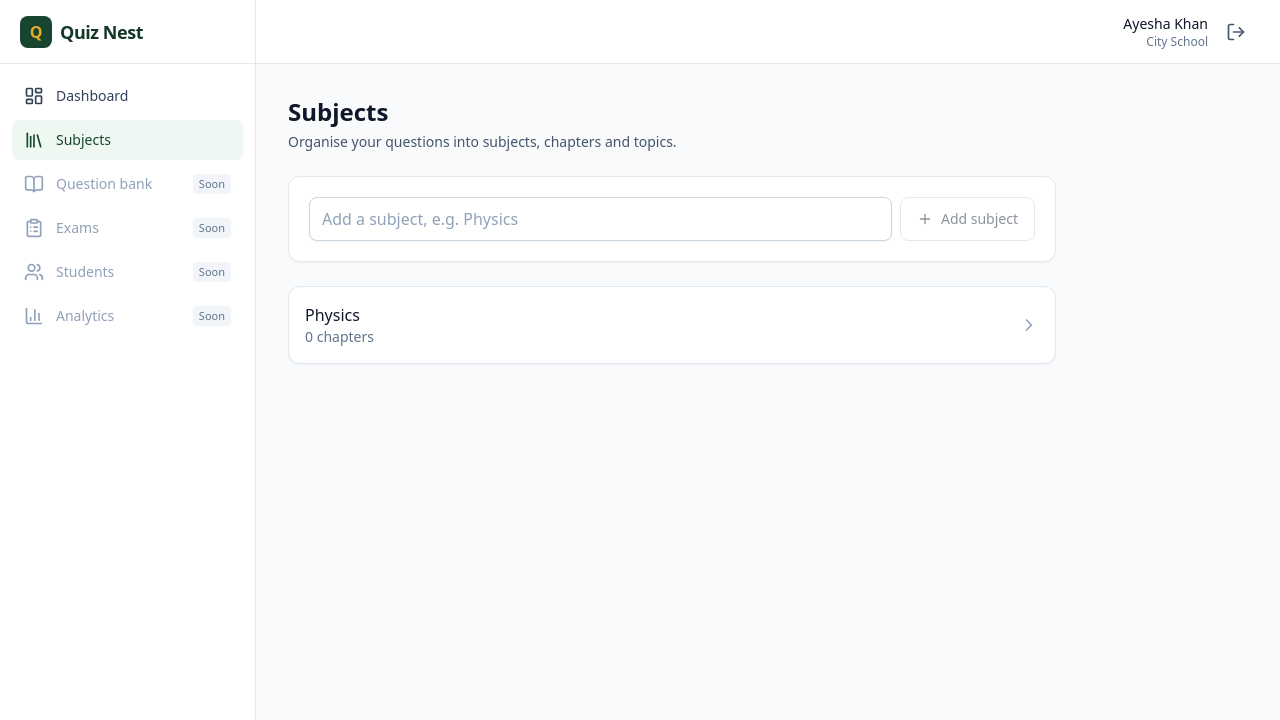
Test: SubjectsPage › lists subjects and adds a new one
Check: the text "Physics" is shown, box [305,304,360,326]
Type "Chemistry" into the field named "New subject name" at (600,219), box [309,197,892,241]
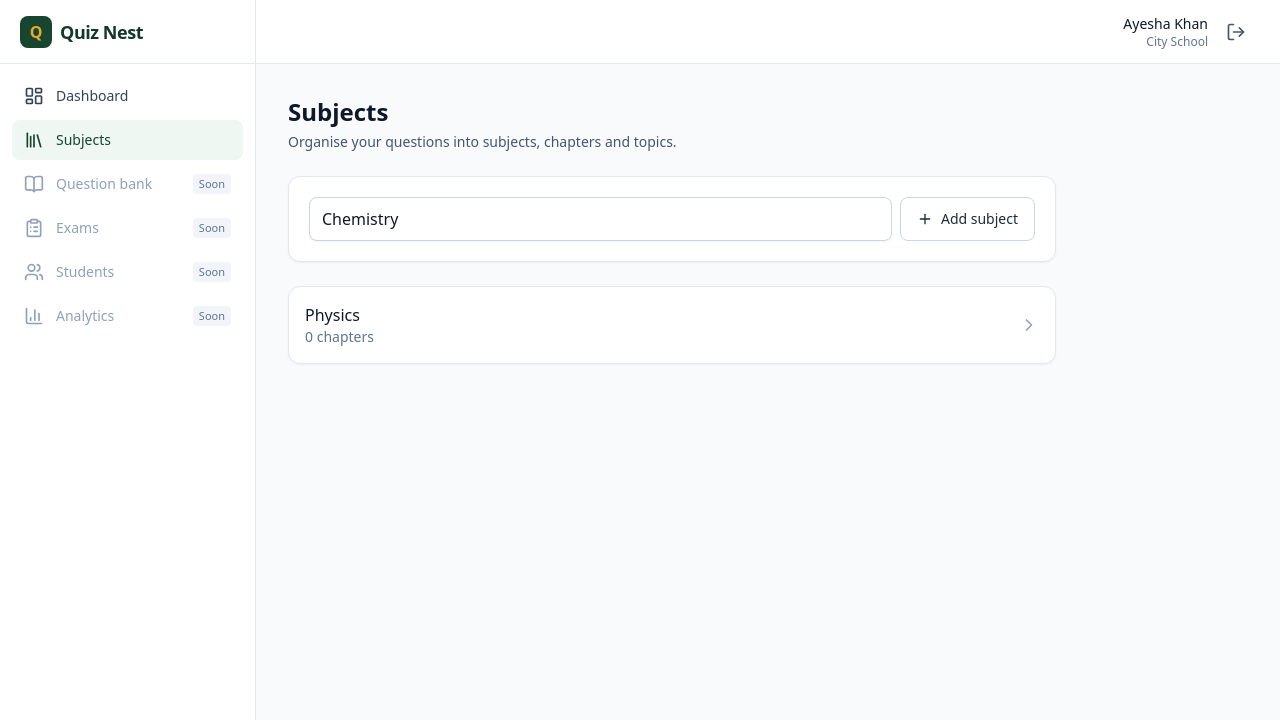
Click the button "Add subject" at (967,219), box [900,197,1035,241]
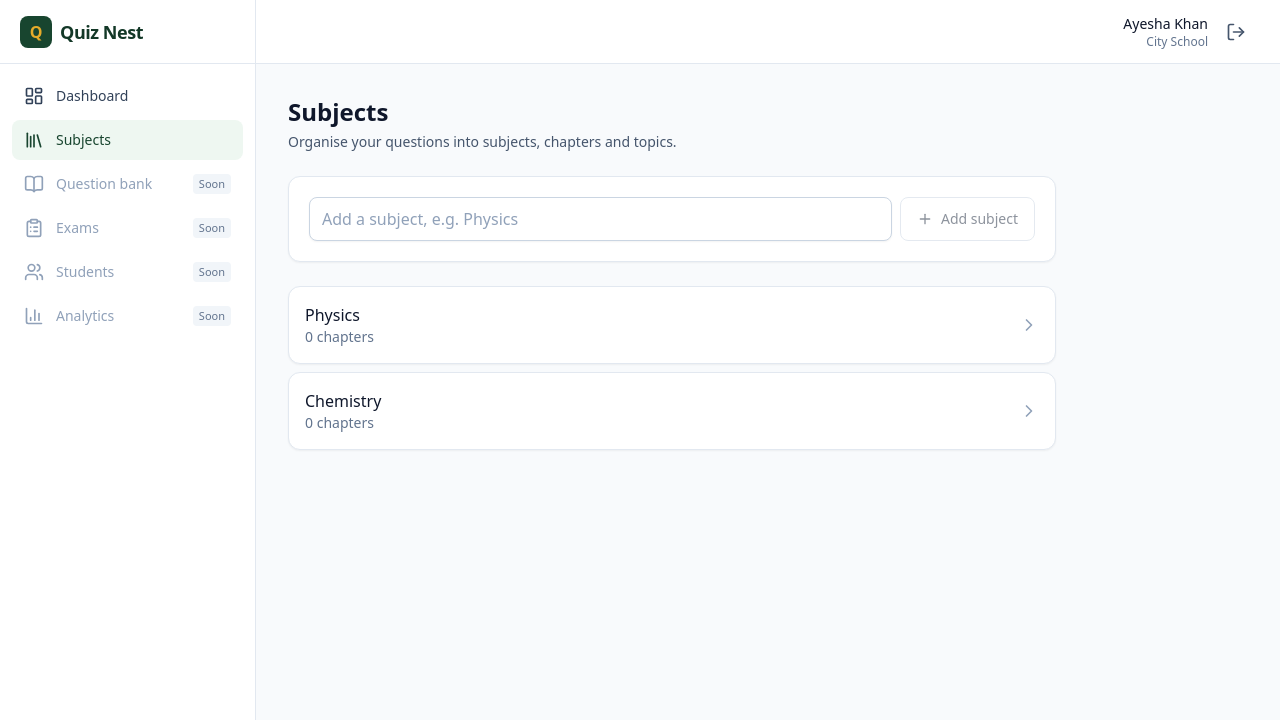
Check: the text "Chemistry" is shown, box [305,390,381,412]
Check: the field named "New subject name" is empty, box [309,197,892,241]
